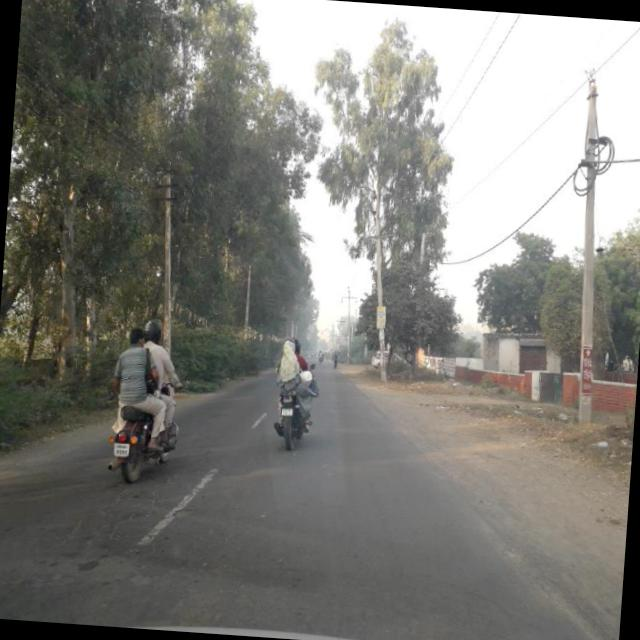crack: (38, 474, 203, 564)
